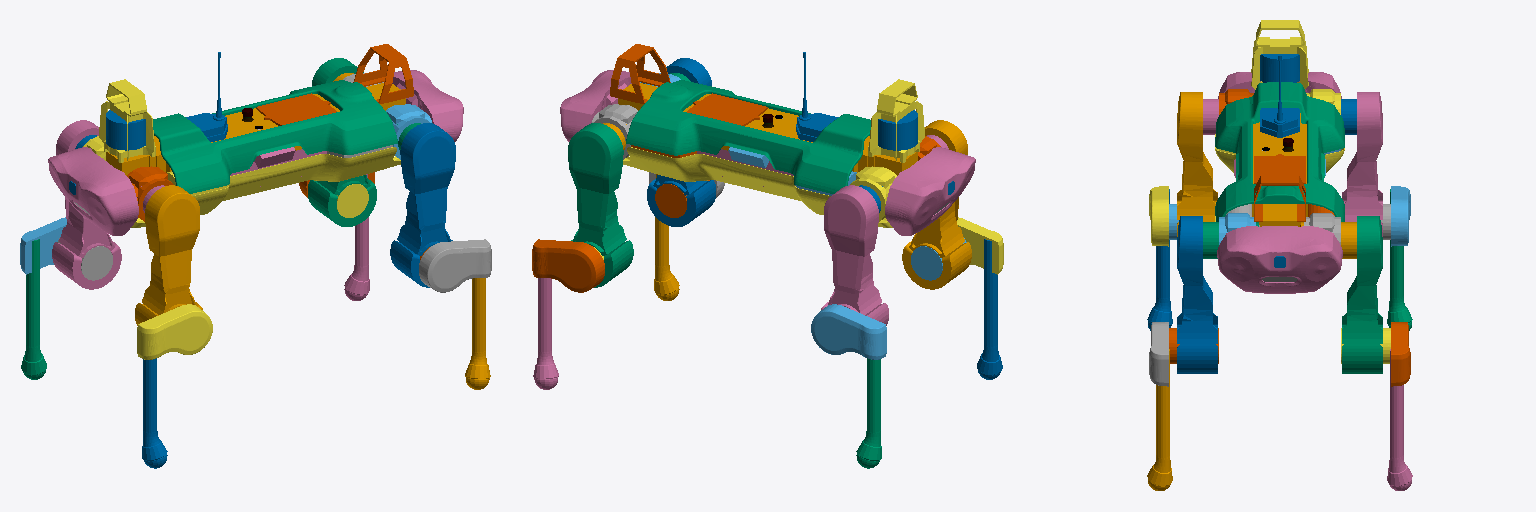
--- What the picture shows (computed from the rendered views, not written in the file) ---
The picture shows the robot from 3 angles, left to right: view 1: azimuth 30°, elevation 25°; view 2: azimuth 150°, elevation 25°; view 3: azimuth 270°, elevation 25°; orthographic projection.
Robot: anymal — 78 links, 77 joints (12 revolute, 65 fixed); root link base; default pose: all joints at 0.
Visible links, largest first — view 1: top_shell, RF_thigh_fixed, RH_thigh_fixed, face_rear, bottom_shell, LH_thigh_fixed, RH_shank_fixed, RF_shank_fixed, LF_thigh_fixed, velodyne_cage, base, face_front (+13 smaller); view 2: top_shell, LF_thigh_fixed, LH_thigh_fixed, face_rear, bottom_shell, RH_thigh_fixed, LH_shank_fixed, LF_shank_fixed, RF_thigh_fixed, velodyne_cage, base, face_front (+13 smaller); view 3: top_shell, face_front, LF_thigh_fixed, RF_thigh_fixed, RH_thigh_fixed, LH_thigh_fixed, base, velodyne_cage, LF_FOOT, RF_FOOT, LH_FOOT, RH_FOOT (+14 smaller).
Boxes of the visible links, left/top/right/bottom form: top_shell: left=153, top=80, right=397, bottom=193; RF_thigh_fixed: left=390, top=123, right=455, bottom=287; RH_thigh_fixed: left=135, top=185, right=202, bottom=325; face_rear: left=48, top=147, right=138, bottom=235; bottom_shell: left=131, top=147, right=400, bottom=227; LH_thigh_fixed: left=52, top=120, right=121, bottom=289; RH_shank_fixed: left=137, top=304, right=212, bottom=359; RF_shank_fixed: left=419, top=239, right=491, bottom=292; LF_thigh_fixed: left=308, top=58, right=376, bottom=226; velodyne_cage: left=99, top=79, right=155, bottom=162; base: left=106, top=83, right=405, bottom=175; face_front: left=392, top=70, right=463, bottom=141; top_shell: left=626, top=80, right=870, bottom=193; LF_thigh_fixed: left=568, top=123, right=633, bottom=287; LH_thigh_fixed: left=821, top=185, right=888, bottom=325; face_rear: left=885, top=147, right=975, bottom=235; bottom_shell: left=623, top=147, right=892, bottom=227; RH_thigh_fixed: left=902, top=120, right=971, bottom=289; LH_shank_fixed: left=811, top=304, right=886, bottom=359; LF_shank_fixed: left=532, top=239, right=604, bottom=292; RF_thigh_fixed: left=647, top=58, right=715, bottom=226; velodyne_cage: left=868, top=79, right=924, bottom=162; base: left=618, top=83, right=917, bottom=175; face_front: left=560, top=70, right=631, bottom=141; top_shell: left=1215, top=82, right=1344, bottom=221; face_front: left=1217, top=226, right=1342, bottom=293; LF_thigh_fixed: left=1342, top=216, right=1382, bottom=373; RF_thigh_fixed: left=1177, top=216, right=1217, bottom=373; RH_thigh_fixed: left=1177, top=92, right=1217, bottom=236; LH_thigh_fixed: left=1342, top=92, right=1382, bottom=236; base: left=1252, top=113, right=1307, bottom=226; velodyne_cage: left=1251, top=20, right=1308, bottom=89; LF_FOOT: left=1387, top=349, right=1412, bottom=490; RF_FOOT: left=1147, top=349, right=1172, bottom=490; LH_FOOT: left=1387, top=189, right=1412, bottom=330; RH_FOOT: left=1147, top=189, right=1172, bottom=330.
Size in the robot's own frame: 1.05 by 0.6518 by 0.9164 metres.
45 mesh visuals loaded from 19 distinct referenced files (19 Collada DAE).

robot.urdf — anymal:
<?xml version="1.0" encoding="utf-8"?>
<!-- =================================================================================== -->
<!-- |    This document was autogenerated by xacro from [local-path]/catkin/src/anymal_c_rsl/anymal_croc_rsl/anymal_croc_rsl/urdf/anymal_croc_rsl.urdf.xacro | -->
<!-- |    EDITING THIS FILE BY HAND IS NOT RECOMMENDED                                 | -->
<!-- =================================================================================== -->
<!-- This file contains the description of the ANYmal robot. -->
<robot name="anymal">
  <!-- [kg * m^2] -->
  <!-- [m] -->
  <!-- measured -->
  <!-- Base link -->
  <link name="base">
    <visual>
      <origin rpy="0 0 0" xyz="0 0 0"/>
      <geometry>
        <mesh filename="../meshes/base_3_1_1_mesh.dae" scale="1.0 1.0     1.0"/>
      </geometry>
    </visual>
    <collision>
      <origin rpy="0 0 0" xyz="0 0 0"/>
      <geometry>
        <box size="0.58 0.14 0.18"/>
      </geometry>
    </collision>
    <collision>
      <origin rpy="0 1.57079632679 0" xyz="0.2175 0.07 0"/>
      <geometry>
        <cylinder length="0.145" radius="0.09"/>
      </geometry>
    </collision>
    <collision>
      <origin rpy="0 1.57079632679 0" xyz="-0.2175 0.07 0"/>
      <geometry>
        <cylinder length="0.145" radius="0.09"/>
      </geometry>
    </collision>
    <collision>
      <origin rpy="0 1.57079632679 0" xyz="0.2175 -0.07 0"/>
      <geometry>
        <cylinder length="0.145" radius="0.09"/>
      </geometry>
    </collision>
    <collision>
      <origin rpy="0 1.57079632679 0" xyz="-0.2175 -0.07 0"/>
      <geometry>
        <cylinder length="0.145" radius="0.09"/>
      </geometry>
    </collision>
    <!-- Shell self filtering -->
    <self_filter>
      <origin rpy="0 0 0" xyz="0 0 0"/>
      <geometry>
        <box size="1.05 0.5 0.25"/>
      </geometry>
    </self_filter>
  </link>
  <!-- Fixed joint to add dummy inertia link -->
  <joint name="base_to_base_inertia" type="fixed">
    <parent link="base"/>
    <child link="base_inertia"/>
    <origin rpy="0 0 0" xyz="0 0 0"/>
  </joint>
  <!-- Dummy inertia link, because KDL cannot have inertia on the base link -->
  <link name="base_inertia">
    <inertial>
      <origin rpy="0 0 0" xyz="-0.02174 0.01649 0.0255"/>
      <mass value="10.3961"/>
      <inertia ixx="0.01883985046" ixy="0.00047876011" ixz="0.0019687174" iyy="0.37477859508" iyz="5.971291e-05" izz="0.37692039276"/>
    </inertial>
  </link>
  <!-- [kg * m^2] -->
  <!-- Fixed joint base topshell -->
  <joint name="base_top_shell" type="fixed">
    <parent link="base"/>
    <child link="top_shell"/>
    <origin rpy="0 0 0" xyz="0 0 0"/>
  </joint>
  <!-- Top shell link -->
  <link name="top_shell">
    <visual>
      <origin rpy="0 0 0" xyz="0 0 0"/>
      <geometry>
        <mesh filename="../meshes/top_shell_3_1_1_mesh.dae" scale="1.0 1.0 1.0"/>
      </geometry>
    </visual>
    <inertial>
      <origin rpy="0 0 0" xyz="-0.00777 -0.00013 0.06523"/>
      <mass value="0.602"/>
      <inertia ixx="0.00664789486" ixy="1.247923e-05" ixz="0.00053990097" iyy="0.02587392411" iyz="3.7614e-07" izz="0.03152303792"/>
    </inertial>
  </link>
  <!-- [kg * m^2] -->
  <!-- Fixed joint base topshell -->
  <joint name="base_bottom_shell" type="fixed">
    <parent link="base"/>
    <child link="bottom_shell"/>
    <origin rpy="0 0 0" xyz="0 0 0"/>
  </joint>
  <!-- Bottom shell link -->
  <link name="bottom_shell">
    <visual>
      <origin rpy="0 0 0" xyz="0 0 0"/>
      <geometry>
        <mesh filename="../meshes/bottom_shell_3_1_1_mesh.dae" scale="1.0 1.0 1.0"/>
      </geometry>
    </visual>
    <inertial>
      <origin rpy="0 0 0" xyz="-0.00333 1e-05 -0.07705"/>
      <mass value="1.13247"/>
      <inertia ixx="0.00927353677" ixy="5.41222e-06" ixz="9.039821e-05" iyy="0.06134388239" iyz="2.3042e-07" izz="0.06853531465"/>
    </inertial>
  </link>
  <!-- [kg * m^2] -->
  <!-- Fixed joint base remote -->
  <joint name="base_remote" type="fixed">
    <parent link="base"/>
    <child link="remote"/>
    <origin rpy="0 0 0" xyz="0 0 0"/>
  </joint>
  <!-- Remote link -->
  <link name="remote">
    <visual>
      <origin rpy="0 0 0" xyz="0 0 0"/>
      <geometry>
        <mesh filename="../meshes/remote_3_1_1_mesh.dae" scale="1.0 1.0     1.0"/>
      </geometry>
    </visual>
    <inertial>
      <origin rpy="0 0 0" xyz="-0.16903 0.00119 0.0959"/>
      <mass value="0.32527"/>
      <inertia ixx="0.00052513018" ixy="3.12817e-05" ixz="0.00010986838" iyy="0.00108907067" iyz="7.8689e-07" izz="0.00116224803"/>
    </inertial>
  </link>
  <!-- [kg * m^2] -->
  <!-- Fixed joint base handle -->
  <joint name="base_handle" type="fixed">
    <parent link="base"/>
    <child link="handle"/>
    <origin rpy="0 0 0" xyz="0 0 0"/>
  </joint>
  <!-- Handle link -->
  <link name="handle">
    <visual>
      <origin rpy="0 0 0" xyz="0 0 0"/>
      <geometry>
        <mesh filename="../meshes/handle_3_1_1_mesh.dae" scale="1.0 1.0     1.0"/>
      </geometry>
    </visual>
    <inertial>
      <origin rpy="0 0 0" xyz="0.37801 0.0 0.1372"/>
      <mass value="0.30655"/>
      <inertia ixx="0.00148775766" ixy="3.55e-09" ixz="5.921332e-05" iyy="0.00067629686" iyz="5.1e-10" izz="0.00113865028"/>
    </inertial>
  </link>
  <!-- [m] -->
  <!-- measured -->
  <!-- Fixed joint base face -->
  <joint name="base_face_front" type="fixed">
    <parent link="base"/>
    <child link="face_front"/>
    <origin rpy="0 0 -0.0" xyz="0.4145 0 0"/>
  </joint>
  <!-- Shell link -->
  <link name="face_front">
    <visual>
      <origin rpy="0 0 0" xyz="0 0 0"/>
      <geometry>
        <mesh filename="../meshes/face_3_1_1_mesh.dae" scale="1.0 1.0 1.0"/>
      </geometry>
    </visual>
    <collision>
      <origin rpy="0 0 0" xyz="0.055 0 0"/>
      <geometry>
        <box size="0.11 0.14 0.18"/>
      </geometry>
    </collision>
    <collision>
      <origin rpy="0 1.57079632679 0" xyz="0.055 0.07 0"/>
      <geometry>
        <cylinder length="0.11" radius="0.09"/>
      </geometry>
    </collision>
    <collision>
      <origin rpy="0 1.57079632679 0" xyz="0.055 -0.07 0"/>
      <geometry>
        <cylinder length="0.11" radius="0.09"/>
      </geometry>
    </collision>
    <inertial>
      <origin rpy="0 0 0" xyz="0.0309 0.0 0.00013"/>
      <mass value="0.07792"/>
      <inertia ixx="0.00015384285" ixy="0.0" ixz="-2.5126e-07" iyy="4.672826e-05" iyz="0.0" izz="0.00018905481"/>
    </inertial>
  </link>
  <!-- [kg * m^2] -->
  <!-- [m] -->
  <!-- Camera joint -->
  <!-- Is located between the two back screw holes at ground level. -->
  <joint name="face_front_to_realsense_d435_front_camera" type="fixed">
    <parent link="face_front"/>
    <child link="realsense_d435_front_camera"/>
    <origin rpy="0.0180287275743 0.485250401273 0" xyz="0.04715 0.0 -0.0292"/>
  </joint>
  <!-- Camera link -->
  <link name="realsense_d435_front_camera">
    <visual>
      <origin rpy="0 0 0" xyz="0.0 0.0 0.0"/>
      <geometry>
        <mesh filename="../meshes/realsense_d435_3_1_1_mesh.dae" scale="1.0 1.0 1.0"/>
      </geometry>
    </visual>
    <inertial>
      <origin rpy="0 0 0" xyz="0.01618 3e-05 0.04715"/>
      <mass value="0.10006"/>
      <inertia ixx="9.072675e-05" ixy="2.73737e-06" ixz="1.969e-08" iyy="1.318628e-05" iyz="9.53e-08" izz="9.0056e-05"/>
    </inertial>
  </link>
  <!-- Camera parent joint -->
  <!-- Frame lies on the left ir camera according to any_realsense2_camera urdf. -->
  <joint name="realsense_d435_front_camera_to_camera_parent" type="fixed">
    <parent link="realsense_d435_front_camera"/>
    <child link="realsense_d435_front_camera_parent"/>
    <origin rpy="0.0 0.0 0.0" xyz="0.0255 0.0175 0.0"/>
  </joint>
  <!-- Camera parent link -->
  <link name="realsense_d435_front_camera_parent"/>
  <!-- Depth optical frame joint -->
  <joint name="realsense_d435_front_camera_parent_to_depth_optical_frame" type="fixed">
    <parent link="realsense_d435_front_camera_parent"/>
    <child link="realsense_d435_front_depth_optical_frame"/>
    <origin rpy="-1.57079632679 0.0 -1.57079632679" xyz="0.0 0.0 0.0"/>
  </joint>
  <!-- Depth optical frame link -->
  <link name="realsense_d435_front_depth_optical_frame"/>
  <!-- Camera color frame joint -->
  <joint name="realsense_d435_front_camera_parent_to_color_frame" type="fixed">
    <parent link="realsense_d435_front_camera_parent"/>
    <child link="realsense_d435_front_color_frame"/>
    <origin rpy="0 0 0" xyz="0 0.015 0"/>
  </joint>
  <!-- Camera color frame link -->
  <link name="realsense_d435_front_color_frame"/>
  <!-- Camera color optical joint -->
  <joint name="realsense_d435_front_color_frame_to_color_optical_frame" type="fixed">
    <parent link="realsense_d435_front_color_frame"/>
    <child link="realsense_d435_front_color_optical_frame"/>
    <origin rpy="-1.57079632679 0.0 -1.57079632679" xyz="0.0 0.0 0.0"/>
  </joint>
  <!-- Camera color optical link -->
  <link name="realsense_d435_front_color_optical_frame"/>
  <!-- simulation or bagfile_is_played -->
  <!-- Gazebo plugin -->
  <gazebo reference="realsense_d435_front_camera_parent">
    <sensor name="realsense_d435_front_camera" type="depth">
      <always_on>1</always_on>
      <visualize>true</visualize>
      <update_rate>6</update_rate>
      <camera>
        <horizontal_fov>1.5917</horizontal_fov>
        <!-- 91.2 degrees -->
        <image>
          <width>424</width>
          <height>240</height>
          <format>R8G8B8</format>
        </image>
        <depth_camera>

            </depth_camera>
        <clip>
          <near>0.1</near>
          <far>10.0</far>
        </clip>
      </camera>
      <plugin filename="libgazebo_ros_openni_kinect.so" name="camera_controller">
        <alwaysOn>true</alwaysOn>
        <updateRate>0.0</updateRate>
        <cameraName>realsense_d435_front</cameraName>
        <frameName>realsense_d435_front_depth_optical_frame</frameName>
        <imageTopicName>color/image_raw</imageTopicName>
        <depthImageTopicName>aligned_depth_to_color/image_raw</depthImageTopicName>
        <pointCloudTopicName>depth/color/points</pointCloudTopicName>
        <cameraInfoTopicName>color/camera_info</cameraInfoTopicName>
        <depthImageCameraInfoTopicName>aligned_depth_to_color/camera_info</depthImageCameraInfoTopicName>
        <pointCloudCutoff>0.0</pointCloudCutoff>
        <hackBaseline>0.07</hackBaseline>
        <distortionK1>0.0</distortionK1>
        <distortionK2>0.0</distortionK2>
        <distortionK3>0.0</distortionK3>
        <distortionT1>0.0</distortionT1>
        <distortionT2>0.0</distortionT2>
        <CxPrime>0.0</CxPrime>
        <Cx>0.0</Cx>
        <Cy>0.0</Cy>
        <focalLength>0.0</focalLength>
      </plugin>
    </sensor>
  </gazebo>
  <!-- simulation -->
  <!-- [kg * m^2] -->
  <!-- [m] -->
  <!-- Camera joint -->
  <!-- Is located in the center of the mounting points. -->
  <joint name="face_front_to_blackfly_front_camera" type="fixed">
    <parent link="face_front"/>
    <child link="blackfly_front_camera"/>
    <origin rpy="0 0 0" xyz="0.09850 0.0 0.01497"/>
  </joint>
  <!-- Camera link -->
  <link name="blackfly_front_camera">
    <visual>
      <origin rpy="0 0 0" xyz="0.0 0.0 0.0"/>
      <geometry>
        <mesh filename="../meshes/blackfly_3_1_1_mesh.dae" scale="1.0 1.0 1.0"/>
      </geometry>
    </visual>
    <inertial>
      <origin rpy="0 0 0" xyz="-0.02575 5e-05 -0.00603"/>
      <mass value="0.1716"/>
      <inertia ixx="4.459725e-05" ixy="-1.5215e-07" ixz="7.82278e-06" iyy="6.206251e-05" iyz="1.3234e-07" izz="5.183372e-05"/>
    </inertial>
  </link>
  <!-- Camera parent joint -->
  <joint name="blackfly_front_camera_to_camera_parent" type="fixed">
    <parent link="blackfly_front_camera"/>
    <child link="blackfly_front_camera_parent"/>
    <origin rpy="-1.57079632679 0.0 -1.57079632679" xyz="0.0 0.0 0.0"/>
  </joint>
  <!-- Camera parent link -->
  <link name="blackfly_front_camera_parent"/>
  <!-- Gazebo plugin -->
  <gazebo reference="blackfly_front_camera">
    <sensor name="blackfly_front_camera" type="camera">
      <always_on>1</always_on>
      <visualize>true</visualize>
      <update_rate>30.0</update_rate>
      <camera name="blackfly_front_camera">
        <horizontal_fov>1.91986</horizontal_fov>
        <image>
          <width>1280</width>
          <height>1024</height>
          <format>R8G8B8</format>
        </image>
        <clip>
          <near>0.02</near>
          <far>300</far>
        </clip>
      </camera>
      <plugin filename="libgazebo_ros_camera.so" name="camera_controller">
        <alwaysOn>true</alwaysOn>
        <updateRate>0.0</updateRate>
        <cameraName>blackfly_front</cameraName>
        <imageTopicName>image_raw</imageTopicName>
        <cameraInfoTopicName>camera_info</cameraInfoTopicName>
        <frameName>blackfly_front_camera_parent</frameName>
        <hackBaseline>0.0</hackBaseline>
        <distortionK1>0.0</distortionK1>
        <distortionK2>0.0</distortionK2>
        <distortionK3>0.0</distortionK3>
        <distortionT1>0.0</distortionT1>
        <distortionT2>0.0</distortionT2>
      </plugin>
    </sensor>
  </gazebo>
  <!-- simulation -->
  <!-- [m] -->
  <!-- measured -->
  <!-- Fixed joint base face -->
  <joint name="base_face_rear" type="fixed">
    <parent link="base"/>
    <child link="face_rear"/>
    <origin rpy="0 0 3.14159265359" xyz="-0.4145 0 0"/>
  </joint>
  <!-- Shell link -->
  <link name="face_rear">
    <visual>
      <origin rpy="0 0 0" xyz="0 0 0"/>
      <geometry>
        <mesh filename="../meshes/face_3_1_1_mesh.dae" scale="1.0 1.0 1.0"/>
      </geometry>
    </visual>
    <collision>
      <origin rpy="0 0 0" xyz="0.055 0 0"/>
      <geometry>
        <box size="0.11 0.14 0.18"/>
      </geometry>
    </collision>
    <collision>
      <origin rpy="0 1.57079632679 0" xyz="0.055 0.07 0"/>
      <geometry>
        <cylinder length="0.11" radius="0.09"/>
      </geometry>
    </collision>
    <collision>
      <origin rpy="0 1.57079632679 0" xyz="0.055 -0.07 0"/>
      <geometry>
        <cylinder length="0.11" radius="0.09"/>
      </geometry>
    </collision>
    <inertial>
      <origin rpy="0 0 0" xyz="0.0309 0.0 0.00013"/>
      <mass value="0.07792"/>
      <inertia ixx="0.00015384285" ixy="0.0" ixz="-2.5126e-07" iyy="4.672826e-05" iyz="0.0" izz="0.00018905481"/>
    </inertial>
  </link>
  <!-- [kg * m^2] -->
  <!-- [m] -->
  <!-- Camera joint -->
  <!-- Is located between the two back screw holes at ground level. -->
  <joint name="face_rear_to_realsense_d435_rear_camera" type="fixed">
    <parent link="face_rear"/>
    <child link="realsense_d435_rear_camera"/>
    <origin rpy="0.0188521739154 0.529785967797 0" xyz="0.04715 0.0 -0.0292"/>
  </joint>
  <!-- Camera link -->
  <link name="realsense_d435_rear_camera">
    <visual>
      <origin rpy="0 0 0" xyz="0.0 0.0 0.0"/>
      <geometry>
        <mesh filename="../meshes/realsense_d435_3_1_1_mesh.dae" scale="1.0 1.0 1.0"/>
      </geometry>
    </visual>
    <inertial>
      <origin rpy="0 0 0" xyz="0.01618 3e-05 0.04715"/>
      <mass value="0.10006"/>
      <inertia ixx="9.072675e-05" ixy="2.73737e-06" ixz="1.969e-08" iyy="1.318628e-05" iyz="9.53e-08" izz="9.0056e-05"/>
    </inertial>
  </link>
  <!-- Camera parent joint -->
  <!-- Frame lies on the left ir camera according to any_realsense2_camera urdf. -->
  <joint name="realsense_d435_rear_camera_to_camera_parent" type="fixed">
    <parent link="realsense_d435_rear_camera"/>
    <child link="realsense_d435_rear_camera_parent"/>
    <origin rpy="0.0 0.0 0.0" xyz="0.0255 0.0175 0.0"/>
  </joint>
  <!-- Camera parent link -->
  <link name="realsense_d435_rear_camera_parent"/>
  <!-- Depth optical frame joint -->
  <joint name="realsense_d435_rear_camera_parent_to_depth_optical_frame" type="fixed">
    <parent link="realsense_d435_rear_camera_parent"/>
    <child link="realsense_d435_rear_depth_optical_frame"/>
    <origin rpy="-1.57079632679 0.0 -1.57079632679" xyz="0.0 0.0 0.0"/>
  </joint>
  <!-- Depth optical frame link -->
  <link name="realsense_d435_rear_depth_optical_frame"/>
  <!-- Camera color frame joint -->
  <joint name="realsense_d435_rear_camera_parent_to_color_frame" type="fixed">
    <parent link="realsense_d435_rear_camera_parent"/>
    <child link="realsense_d435_rear_color_frame"/>
    <origin rpy="0 0 0" xyz="0 0.015 0"/>
  </joint>
  <!-- Camera color frame link -->
  <link name="realsense_d435_rear_color_frame"/>
  <!-- Camera color optical joint -->
  <joint name="realsense_d435_rear_color_frame_to_color_optical_frame" type="fixed">
    <parent link="realsense_d435_rear_color_frame"/>
    <child link="realsense_d435_rear_color_optical_frame"/>
    <origin rpy="-1.57079632679 0.0 -1.57079632679" xyz="0.0 0.0 0.0"/>
  </joint>
  <!-- Camera color optical link -->
  <link name="realsense_d435_rear_color_optical_frame"/>
  <!-- simulation or bagfile_is_played -->
  <!-- Gazebo plugin -->
  <gazebo reference="realsense_d435_rear_camera_parent">
    <sensor name="realsense_d435_rear_camera" type="depth">
      <always_on>1</always_on>
      <visualize>true</visualize>
      <update_rate>6</update_rate>
      <camera>
        <horizontal_fov>1.5917</horizontal_fov>
        <!-- 91.2 degrees -->
        <image>
          <width>424</width>
          <height>240</height>
          <format>R8G8B8</format>
        </image>
        <depth_camera>

            </depth_camera>
        <clip>
          <near>0.1</near>
          <far>10.0</far>
        </clip>
      </camera>
      <plugin filename="libgazebo_ros_openni_kinect.so" name="camera_controller">
        <alwaysOn>true</alwaysOn>
        <updateRate>0.0</updateRate>
        <cameraName>realsense_d435_rear</cameraName>
        <frameName>realsense_d435_rear_depth_optical_frame</frameName>
        <imageTopicName>color/image_raw</imageTopicName>
        <depthImageTopicName>aligned_depth_to_color/image_raw</depthImageTopicName>
        <pointCloudTopicName>depth/color/points</pointCloudTopicName>
        <cameraInfoTopicName>color/camera_info</cameraInfoTopicName>
        <depthImageCameraInfoTopicName>aligned_depth_to_color/camera_info</depthImageCameraInfoTopicName>
        <pointCloudCutoff>0.0</pointCloudCutoff>
        <hackBaseline>0.07</hackBaseline>
        <distortionK1>0.0</distortionK1>
        <distortionK2>0.0</distortionK2>
        <distortionK3>0.0</distortionK3>
        <distortionT1>0.0</distortionT1>
        <distortionT2>0.0</distortionT2>
        <CxPrime>0.0</CxPrime>
        <Cx>0.0</Cx>
        <Cy>0.0</Cy>
        <focalLength>0.0</focalLength>
      </plugin>
    </sensor>
  </gazebo>
  <!-- simulation -->
  <!-- [kg * m^2] -->
  <!-- [m] -->
  <!-- Camera joint -->
  <!-- Is located in the center of the mounting points. -->
  <joint name="face_rear_to_blackfly_rear_camera" type="fixed">
    <parent link="face_rear"/>
    <child link="blackfly_rear_camera"/>
    <origin rpy="0 0 0" xyz="0.09850 0.0 0.01497"/>
  </joint>
  <!-- Camera link -->
  <link name="blackfly_rear_camera">
    <visual>
      <origin rpy="0 0 0" xyz="0.0 0.0 0.0"/>
      <geometry>
        <mesh filename="../meshes/blackfly_3_1_1_mesh.dae" scale="1.0 1.0 1.0"/>
      </geometry>
    </visual>
    <inertial>
      <origin rpy="0 0 0" xyz="-0.02575 5e-05 -0.00603"/>
      <mass value="0.1716"/>
      <inertia ixx="4.459725e-05" ixy="-1.5215e-07" ixz="7.82278e-06" iyy="6.206251e-05" iyz="1.3234e-07" izz="5.183372e-05"/>
    </inertial>
  </link>
  <!-- Camera parent joint -->
  <joint name="blackfly_rear_camera_to_camera_parent" type="fixed">
    <parent link="blackfly_rear_camera"/>
    <child link="blackfly_rear_camera_parent"/>
    <origin rpy="-1.57079632679 0.0 -1.57079632679" xyz="0.0 0.0 0.0"/>
  </joint>
  <!-- Camera parent link -->
  <link name="blackfly_rear_camera_parent"/>
  <!-- Gazebo plugin -->
  <gazebo reference="blackfly_rear_camera">
    <sensor name="blackfly_rear_camera" type="camera">
      <always_on>1</always_on>
      <visualize>true</visualize>
      <update_rate>30.0</update_rate>
      <camera name="blackfly_rear_camera">
        <horizontal_fov>1.91986</horizontal_fov>
        <image>
          <width>1280</width>
          <height>1024</height>
          <format>R8G8B8</format>
        </image>
        <clip>
          <near>0.02</near>
          <far>300</far>
        </clip>
      </camera>
      <plugin filename="libgazebo_ros_camera.so" name="camera_controller">
        <alwaysOn>true</alwaysOn>
        <updateRate>0.0</updateRate>
        <cameraName>blackfly_rear</cameraName>
        <imageTopicName>image_raw</imageTopicName>
        <cameraInfoTopicName>camera_info</cameraInfoTopicName>
        <frameName>blackfly_rear_camera_parent</frameName>
        <hackBaseline>0.0</hackBaseline>
        <distortionK1>0.0</distortionK1>
        <distortionK2>0.0</distortionK2>
        <distortionK3>0.0</distortionK3>
        <distortionT1>0.0</distortionT1>
        <distortionT2>0.0</distortionT2>
      </plugin>
    </sensor>
  </gazebo>
  <!-- simulation -->
  <!-- [kg * m^2] -->
  <!-- Fixed joint base battery -->
  <joint name="base_battery" type="fixed">
    <parent link="base"/>
    <child link="battery"/>
    <origin rpy="0 0 0" xyz="0 0 0"/>
  </joint>
  <!-- Shell link -->
  <link name="battery">
    <visual>
      <origin rpy="0 0 0" xyz="0 0 0"/>
      <geometry>
        <mesh filename="../meshes/battery_3_0_4_mesh.dae" scale="1.0 1.0     1.0"/>
      </geometry>
    </visual>
    <inertial>
      <origin rpy="0 0 0" xyz="-0.00067 -0.00023 -0.03362"/>
      <mass value="5.53425"/>
      <inertia ixx="0.00749474794" ixy="0.00016686282" ixz="7.82763e-05" iyy="0.0722338913" iyz="1.42902e-06" izz="0.07482717535"/>
    </inertial>
  </link>
  <!-- Fixed joint to add docking socket -->
  <joint name="base_to_docking_socket" type="fixed">
    <parent link="base"/>
    <child link="docking_socket"/>
    <origin rpy="0 0 0" xyz="0.343 0.0 -0.08"/>
  </joint>
  <!-- Docking socket link -->
  <link name="docking_socket"/>
  <!-- [] -->
  <link name="imu_link">
    <visual>
      <origin rpy="0 0 0" xyz="0 0 0.005"/>
      <geometry>
        <box size="0.024 0.024 0.01"/>
      </geometry>
      <material name="orange"/>
    </visual>
    <collision>
      <origin rpy="0 0 0" xyz="0 0 0.005"/>
      <geometry>
        <box size="0.024 0.024 0.01"/>
      </geometry>
    </collision>
    <inertial>
      <mass value="0.01"/>
      <origin xyz="0 0 0"/>
      <inertia ixx="5.63333333333e-07" ixy="0.0" ixz="0.0" iyy="9.6e-07" iyz="0.0" izz="5.63333333333e-07"/>
    </inertial>
  </link>
  <joint name="imu_joint" type="fixed">
    <parent link="base"/>
    <child link="imu_link"/>
    <origin rpy="0.0 0.0 0.0" xyz="0.2488 0.00835 0.04628"/>
  </joint>
  <!-- [kg * m^2] -->
  <!-- [m] -->
  <!-- Camera joint -->
  <!-- Is located between the two back screw holes at ground level. -->
  <joint name="base_to_realsense_d435_left_camera" type="fixed">
    <parent link="base"/>
    <child link="realsense_d435_left_camera"/>
    <origin rpy="-0.0152290274679 0.510627488597 1.57079632679" xyz="0.0 0.07646 0.02905"/>
  </joint>
  <!-- Camera link -->
  <link name="realsense_d435_left_camera">
    <visual>
      <origin rpy="0 0 0" xyz="0.0 0.0 0.0"/>
      <geometry>
        <mesh filename="../meshes/realsense_d435_3_1_1_mesh.dae" scale="1.0 1.0 1.0"/>
      </geometry>
    </visual>
    <inertial>
      <origin rpy="0 0 0" xyz="0.01618 3e-05 0.04715"/>
      <mass value="0.10006"/>
      <inertia ixx="9.072675e-05" ixy="2.73737e-06" ixz="1.969e-08" iyy="1.318628e-05" iyz="9.53e-08" izz="9.0056e-05"/>
    </inertial>
  </link>
  <!-- Camera parent joint -->
  <!-- Frame lies on the left ir camera according to any_realsense2_camera urdf. -->
  <joint name="realsense_d435_left_camera_to_camera_parent" type="fixed">
    <parent link="realsense_d435_left_camera"/>
    <child link="realsense_d435_left_camera_parent"/>
    <origin rpy="0.0 0.0 0.0" xyz="0.0255 0.0175 0.0"/>
  </joint>
  <!-- Camera parent link -->
  <link name="realsense_d435_left_camera_parent"/>
  <!-- Depth optical frame joint -->
  <joint name="realsense_d435_left_camera_parent_to_depth_optical_frame" type="fixed">
    <parent link="realsense_d435_left_camera_parent"/>
    <child link="realsense_d435_left_depth_optical_frame"/>
    <origin rpy="-1.57079632679 0.0 -1.57079632679" xyz="0.0 0.0 0.0"/>
  </joint>
  <!-- Depth optical frame link -->
  <link name="realsense_d435_left_depth_optical_frame"/>
  <!-- Camera color frame joint -->
  <joint name="realsense_d435_left_camera_parent_to_color_frame" type="fixed">
    <parent link="realsense_d435_left_camera_parent"/>
    <child link="realsense_d435_left_color_frame"/>
    <origin rpy="0 0 0" xyz="0 0.015 0"/>
  </joint>
  <!-- Camera color frame link -->
  <link name="realsense_d435_left_color_frame"/>
  <!-- Camera color optical joint -->
  <joint name="realsense_d435_left_color_frame_to_color_optical_frame" type="fixed">
    <parent link="realsense_d435_left_color_frame"/>
    <child link="realsense_d435_left_color_optical_frame"/>
    <origin rpy="-1.57079632679 0.0 -1.57079632679" xyz="0.0 0.0 0.0"/>
  </joint>
  <!-- Camera color optical link -->
  <link name="realsense_d435_left_color_optical_frame"/>
  <!-- simulation or bagfile_is_played -->
  <!-- Gazebo plugin -->
  <gazebo reference="realsense_d435_left_camera_parent">
    <sensor name="realsense_d435_left_camera" type="depth">
      <always_on>1</always_on>
      <visualize>true</visualize>
      <update_rate>6</update_rate>
      <camera>
        <horizontal_fov>1.5917</horizontal_fov>
        <!-- 91.2 degrees -->
        <image>
          <width>424</width>
          <height>240</height>
          <format>R8G8B8</format>
        </image>
        <depth_camera>

            </depth_camera>
        <clip>
          <near>0.1</near>
          <far>10.0</far>
        </clip>
      </camera>
      <plugin filename="libgazebo_ros_openni_kinect.so" name="camera_controller">
        <alwaysOn>true</alwaysOn>
        <updateRate>0.0</updateRate>
        <cameraName>realsense_d435_left</cameraName>
        <frameName>realsense_d435_left_depth_optical_frame</frameName>
        <imageTopicName>color/image_raw</imageTopicName>
        <depthImageTopicName>aligned_depth_to_color/image_raw</depthImageTopicName>
        <pointCloudTopicName>depth/color/points</pointCloudTopicName>
        <cameraInfoTopicName>color/camera_info</cameraInfoTopicName>
        <depthImageCameraInfoTopicName>aligned_depth_to_color/camera_info</depthImageCameraInfoTopicName>
        <pointCloudCutoff>0.0</pointCloudCutoff>
        <hackBaseline>0.07</hackBaseline>
        <distortionK1>0.0</distortionK1>
        <distortionK2>0.0</distortionK2>
        <distortionK3>0.0</distortionK3>
        <distortionT1>0.0</distortionT1>
        <distortionT2>0.0</distortionT2>
        <CxPrime>0.0</CxPrime>
        <Cx>0.0</Cx>
        <Cy>0.0</Cy>
        <focalLength>0.0</focalLength>
      </plugin>
    </sensor>
  </gazebo>
  <!-- simulation -->
  <!-- [kg * m^2] -->
  <!-- [m] -->
  <!-- Camera joint -->
  <!-- Is located between the two back screw holes at ground level. -->
  <joint name="base_to_realsense_d435_right_camera" type="fixed">
    <parent link="base"/>
    <child link="realsense_d435_right_camera"/>
    <origin rpy="0.0323779520196 0.531011188932 -1.57079632679" xyz="0.0 -0.07646 0.02905"/>
  </joint>
  <!-- Camera link -->
  <link name="realsense_d435_right_camera">
    <visual>
      <origin rpy="0 0 0" xyz="0.0 0.0 0.0"/>
      <geometry>
        <mesh filename="../meshes/realsense_d435_3_1_1_mesh.dae" scale="1.0 1.0 1.0"/>
      </geometry>
    </visual>
    <inertial>
      <origin rpy="0 0 0" xyz="0.01618 3e-05 0.04715"/>
      <mass value="0.10006"/>
      <inertia ixx="9.072675e-05" ixy="2.73737e-06" ixz="1.969e-08" iyy="1.318628e-05" iyz="9.53e-08" izz="9.0056e-05"/>
    </inertial>
  </link>
  <!-- Camera parent joint -->
  <!-- Frame lies on the left ir camera according to any_realsense2_camera urdf. -->
  <joint name="realsense_d435_right_camera_to_camera_parent" type="fixed">
    <parent link="realsense_d435_right_camera"/>
    <child link="realsense_d435_right_camera_parent"/>
    <origin rpy="0.0 0.0 0.0" xyz="0.0255 0.0175 0.0"/>
  </joint>
  <!-- Camera parent link -->
  <link name="realsense_d435_right_camera_parent"/>
  <!-- Depth optical frame joint -->
  <joint name="realsense_d435_right_camera_parent_to_depth_optical_frame" type="fixed">
    <parent link="realsense_d435_right_camera_parent"/>
    <child link="realsense_d435_right_depth_optical_frame"/>
    <origin rpy="-1.57079632679 0.0 -1.57079632679" xyz="0.0 0.0 0.0"/>
  </joint>
  <!-- Depth optical frame link -->
  <link name="realsense_d435_right_depth_optical_frame"/>
  <!-- Camera color frame joint -->
  <joint name="realsense_d435_right_camera_parent_to_color_frame" type="fixed">
    <parent link="realsense_d435_right_camera_parent"/>
    <child link="realsense_d435_right_color_frame"/>
    <origin rpy="0 0 0" xyz="0 0.015 0"/>
  </joint>
  <!-- Camera color frame link -->
  <link name="realsense_d435_right_color_frame"/>
  <!-- Camera color optical joint -->
  <joint name="realsense_d435_right_color_frame_to_color_optical_frame" type="fixed">
    <parent link="realsense_d435_right_color_frame"/>
    <child link="realsense_d435_right_color_optical_frame"/>
    <origin rpy="-1.57079632679 0.0 -1.57079632679" xyz="0.0 0.0 0.0"/>
  </joint>
  <!-- Camera color optical link -->
  <link name="realsense_d435_right_color_optical_frame"/>
  <!-- simulation or bagfile_is_played -->
  <!-- Gazebo plugin -->
  <gazebo reference="realsense_d435_right_camera_parent">
    <sensor name="realsense_d435_right_camera" type="depth">
      <always_on>1</always_on>
      <visualize>true</visualize>
      <update_rate>6</update_rate>
      <camera>
        <horizontal_fov>1.5917</horizontal_fov>
        <!-- 91.2 degrees -->
        <image>
          <width>424</width>
          <height>240</height>
          <format>R8G8B8</format>
        </image>
        <depth_camera>

            </depth_camera>
        <clip>
          <near>0.1</near>
          <far>10.0</far>
        </clip>
      </camera>
      <plugin filename="libgazebo_ros_openni_kinect.so" name="camera_controller">
        <alwaysOn>true</alwaysOn>
        <updateRate>0.0</updateRate>
        <cameraName>realsense_d435_right</cameraName>
        <frameName>realsense_d435_right_depth_optical_frame</frameName>
        <imageTopicName>color/image_raw</imageTopicName>
        <depthImageTopicName>aligned_depth_to_color/image_raw</depthImageTopicName>
        <pointCloudTopicName>depth/color/points</pointCloudTopicName>
        <cameraInfoTopicName>color/camera_info</cameraInfoTopicName>
        <depthImageCameraInfoTopicName>aligned_depth_to_color/camera_info</depthImageCameraInfoTopicName>
        <pointCloudCutoff>0.0</pointCloudCutoff>
        <hackBaseline>0.07</hackBaseline>
        <distortionK1>0.0</distortionK1>
        <distortionK2>0.0</distortionK2>
        <distortionK3>0.0</distortionK3>
        <distortionT1>0.0</distortionT1>
        <distortionT2>0.0</distortionT2>
        <CxPrime>0.0</CxPrime>
        <Cx>0.0</Cx>
        <Cy>0.0</Cy>
        <focalLength>0.0</focalLength>
      </plugin>
    </sensor>
  </gazebo>
  <!-- simulation -->
  <!-- [kg * m^2] -->
  <!-- [m] -->
  <!-- parent to cage joint, located between mounting plate on trunk and the cage -->
  <joint name="base_to_velodyne_cage" type="fixed">
    <parent link="base"/>
    <child link="velodyne_cage"/>
    <origin rpy="0 0 0" xyz="-0.364 0.0 0.0735"/>
  </joint>
  <!-- Velodyne cage link -->
  <link name="velodyne_cage">
    <visual>
      <origin rpy="0.0 0.0 0.0" xyz="0.0 0.0 0.0"/>
      <geometry>
        <mesh filename="../meshes/cage_3_1_1_mesh.dae" scale="1.0 1.0 1.0"/>
      </geometry>
    </visual>
    <collision>
      <origin rpy="0 0 0" xyz="0 0 0.06"/>
      <geometry>
        <cylinder length="0.12" radius="0.07"/>
      </geometry>
    </collision>
    <inertial>
      <origin rpy="0.0 0.0 0.0" xyz="0.00835 0.00422 0.09164"/>
      <mass value="0.59537"/>
      <inertia ixx="0.00355433776" ixy="-0.00017311043" ixz="0.00034272548" iyy="0.00300234186" iyz="0.00017427295" izz="0.00174109156"/>
    </inertial>
  </link>
  <!-- [kg * m^2] -->
  <!-- parent to sensor joint -->
  <joint name="velodyne_cage_to_velodyne" type="fixed">
    <parent link="velodyne_cage"/>
    <child link="velodyne"/>
    <origin rpy="0.0 0.0 -1.57079632679" xyz="0.0 0.0 0.0687"/>
  </joint>
  <!-- Velodyne sensor link -->
  <link name="velodyne">
    <inertial>
      <origin rpy="0.0 0.0 0.0" xyz="0.0 8e-05 -0.0025"/>
      <mass value="0.59"/>
      <inertia ixx="0.00063992282" ixy="1.1e-10" ixz="5.061e-08" iyy="0.00063682474" iyz="1.38867e-06" izz="0.00075943194"/>
    </inertial>
    <visual>
      <origin xyz="0 0 0"/>
      <geometry>
        <mesh filename="../meshes/velodyne_3_1_1_mesh.dae"/>
      </geometry>
    </visual>
  </link>
  <!-- velodyne_gazebo_plugins -->
  <gazebo reference="velodyne">
    <sensor name="velodyne-VLP16" type="ray">
      <pose>0 0 0 0 0 0</pose>
      <visualize>false</visualize>
      <update_rate>10</update_rate>
      <ray>
        <scan>
          <horizontal>
            <samples>440</samples>
            <resolution>1</resolution>
            <min_angle>-3.14159265359</min_angle>
            <max_angle>3.14159265359</max_angle>
          </horizontal>
          <vertical>
            <samples>16</samples>
            <resolution>1</resolution>
            <min_angle>-0.261799387799</min_angle>
            <max_angle> 0.261799387799</max_angle>
          </vertical>
        </scan>
        <range>
          <min>0.3</min>
          <max>131.0</max>
          <resolution>0.001</resolution>
        </range>
        <noise>
          <type>gaussian</type>
          <mean>0.0</mean>
          <stddev>0.0</stddev>
        </noise>
      </ray>
      <plugin filename="libgazebo_ros_velodyne_laser.so" name="gazebo_ros_laser_controller">
        <topicName>/velodyne/point_cloud</topicName>
        <frameName>velodyne</frameName>
        <min_range>0.9</min_range>
        <max_range>130.0</max_range>
        <gaussianNoise>0.008</gaussianNoise>
      </plugin>
    </sensor>
  </gazebo>
  <!-- simulation -->
  <!-- [rad] -->
  <!-- joint base HAA -->
  <joint name="base_LF_HAA" type="fixed">
    <parent link="base"/>
    <child link="LF_HAA"/>
    <origin rpy="2.61799387799 0 0.0" xyz="0.2999 0.104 0.0"/>
  </joint>
  <!-- [m] -->
  <!-- [A] -->
  <!-- Drive link -->
  <link name="LF_HAA">
    <visual>
      <origin rpy="0 0 0" xyz="0 0 0"/>
      <geometry>
        <mesh filename="../meshes/drive_3_0_2_mesh.dae" scale="1.0 1.0     1.0"/>
      </geometry>
    </visual>
    <inertial>
      <origin rpy="0 0 0" xyz="-0.06639 7e-05 0.00046"/>
      <mass value="1.89871"/>
      <inertia ixx="0.00201800646" ixy="6.22418e-06" ixz="1.03846e-06" iyy="0.00354961412" iyz="1.0569e-07" izz="0.00353706896"/>
    </inertial>
  </link>
  <!-- joint Drive output -->
  <joint name="LF_HAA" type="revolute">
    <parent link="LF_HAA"/>
    <child link="LF_HIP"/>
    <origin rpy="0 0 0" xyz="0 0 0"/>
    <axis xyz="1 0 0"/>
    <limit command_effort="80.0" current="32.0" effort="80.0" gear_velocity="7.5" lower="-9.42477796077" upper="9.42477796077" velocity="7.5"/>
    <dynamics damping="0.0" friction="0.0"/>
  </joint>
  <!-- Drive output link -->
  <link name="LF_HIP">
    <inertial>
      <origin rpy="0 0 0" xyz="0 0 0"/>
      <mass value="0.001"/>
      <inertia ixx="0.000001" ixy="0.0" ixz="0.0" iyy="0.000001" iyz="0.0" izz="0.000001"/>
    </inertial>
  </link>
  <!-- [kg * m^2] -->
  <!-- joint HAA hip -->
  <joint name="LF_HIP_LF_hip_fixed" type="fixed">
    <parent link="LF_HIP"/>
    <child link="LF_hip_fixed"/>
    <origin rpy="-2.61799387799 0 0.0" xyz="0 0 0"/>
  </joint>
  <!-- Hip link -->
  <link name="LF_hip_fixed">
    <visual>
      <origin rpy="0 0 0.0" xyz="0 0 0"/>
      <geometry>
        <mesh filename="../meshes/hip_3_1_1_mesh.dae" scale="1.0 1.0     1.0"/>
      </geometry>
    </visual>
    <inertial>
      <origin rpy="0 0 0" xyz="0.04524 -0.0009 -0.00442"/>
      <mass value="0.61232"/>
      <inertia ixx="0.00120630718" ixy="5.33521e-06" ixz="1.483089e-05" iyy="0.00378577813" iyz="1.483089e-05" izz="0.00370047477"/>
    </inertial>
  </link>
  <!-- [rad] -->
  <!-- joint hip HFE -->
  <joint name="LF_hip_fixed_LF_HFE" type="fixed">
    <parent link="LF_hip_fixed"/>
    <child link="LF_HFE"/>
    <origin rpy="0 0 1.57079632679" xyz="0.0599 0.08381 0.0"/>
  </joint>
  <!-- [m] -->
  <!-- [A] -->
  <!-- Drive link -->
  <link name="LF_HFE">
    <visual>
      <origin rpy="0 0 0" xyz="0 0 0"/>
      <geometry>
        <mesh filename="../meshes/drive_3_0_2_mesh.dae" scale="1.0 1.0     1.0"/>
      </geometry>
    </visual>
    <collision>
      <origin rpy="0 1.57079632679 0" xyz="-0.07 0 0"/>
      <geometry>
        <cylinder length="0.14" radius="0.05"/>
      </geometry>
    </collision>
    <inertial>
      <origin rpy="0 0 0" xyz="-0.06639 7e-05 0.00046"/>
      <mass value="1.89871"/>
      <inertia ixx="0.00201800646" ixy="6.22418e-06" ixz="1.03846e-06" iyy="0.00354961412" iyz="1.0569e-07" izz="0.00353706896"/>
    </inertial>
  </link>
  <!-- joint Drive output -->
  <joint name="LF_HFE" type="revolute">
    <parent link="LF_HFE"/>
    <child link="LF_THIGH"/>
    <origin rpy="0 0 0" xyz="0 0 0"/>
    <axis xyz="1 0 0"/>
    <limit command_effort="80.0" current="32.0" effort="80.0" gear_velocity="7.5" lower="-9.42477796077" upper="9.42477796077" velocity="7.5"/>
    <dynamics damping="0.0" friction="0.0"/>
  </joint>
  <!-- Drive output link -->
  <link name="LF_THIGH">
    <inertial>
      <origin rpy="0 0 0" xyz="0 0 0"/>
      <mass value="0.001"/>
      <inertia ixx="0.000001" ixy="0.0" ixz="0.0" iyy="0.000001" iyz="0.0" izz="0.000001"/>
    </inertial>
  </link>
  <!-- [m] -->
  <!-- measured -->
  <!-- joint HFE thigh -->
  <joint name="LF_THIGH_LF_thigh_fixed" type="fixed">
    <parent link="LF_THIGH"/>
    <child link="LF_thigh_fixed"/>
    <origin rpy="0 0 -1.57079632679" xyz="0 0 0"/>
  </joint>
  <!-- Thigh link -->
  <link name="LF_thigh_fixed">
    <visual>
      <origin rpy="0 0 0.0" xyz="0 0 0"/>
      <geometry>
        <mesh filename="../meshes/thigh_3_1_1_mesh.dae" scale="1.0 1.0     1.0"/>
      </geometry>
    </visual>
    <!-- Thigh collision -->
    <collision>
      <origin rpy="1.57079632679 0 0" xyz="0 0.04 0"/>
      <geometry>
        <cylinder length="0.08" radius="0.065"/>
      </geometry>
    </collision>
    <collision>
      <origin rpy="0 0 0" xyz="0 0.03 -0.1413135"/>
      <geometry>
        <box size="0.075 0.06 0.282627"/>
      </geometry>
    </collision>
    <inertial>
      <origin rpy="0 0 0" xyz="-0.00935 0.00194 -0.1424"/>
      <mass value="1.37356"/>
      <inertia ixx="0.02568264237" ixy="0.00110418011" ixz="0.00183898863" iyy="0.02513273119" iyz="0.00217895477" izz="0.0049947572"/>
    </inertial>
  </link>
  <!-- [rad] -->
  <!-- joint thigh KFE -->
  <joint name="LF_thigh_fixed_LF_KFE" type="fixed">
    <parent link="LF_thigh_fixed"/>
    <child link="LF_KFE"/>
    <origin rpy="0 0 1.57079632679" xyz="0.0 0.1003 -0.285"/>
  </joint>
  <!-- [m] -->
  <!-- [A] -->
  <!-- Drive link -->
  <link name="LF_KFE">
    <visual>
      <origin rpy="0 0 0" xyz="0 0 0"/>
      <geometry>
        <mesh filename="../meshes/drive_3_0_2_mesh.dae" scale="1.0 1.0     1.0"/>
      </geometry>
    </visual>
    <collision>
      <origin rpy="0 1.57079632679 0" xyz="-0.07 0 0"/>
      <geometry>
        <cylinder length="0.14" radius="0.05"/>
      </geometry>
    </collision>
    <inertial>
      <origin rpy="0 0 0" xyz="-0.06639 7e-05 0.00046"/>
      <mass value="1.89871"/>
      <inertia ixx="0.00201800646" ixy="6.22418e-06" ixz="1.03846e-06" iyy="0.00354961412" iyz="1.0569e-07" izz="0.00353706896"/>
    </inertial>
  </link>
  <!-- joint Drive output -->
  <joint name="LF_KFE" type="revolute">
    <parent link="LF_KFE"/>
    <child link="LF_SHANK"/>
    <origin rpy="0 0 0" xyz="0 0 0"/>
    <axis xyz="1 0 0"/>
    <limit command_effort="80.0" current="32.0" effort="80.0" gear_velocity="7.5" lower="-9.42477796077" upper="9.42477796077" velocity="7.5"/>
    <dynamics damping="0.0" friction="0.0"/>
  </joint>
  <!-- Drive output link -->
  <link name="LF_SHANK">
    <inertial>
      <origin rpy="0 0 0" xyz="0 0 0"/>
      <mass value="0.001"/>
      <inertia ixx="0.000001" ixy="0.0" ixz="0.0" iyy="0.000001" iyz="0.0" izz="0.000001"/>
    </inertial>
  </link>
  <!-- [m] -->
  <!-- measured -->
  <!-- joint KFE shank -->
  <joint name="LF_shank_LF_shank_fixed" type="fixed">
    <parent link="LF_SHANK"/>
    <child link="LF_shank_fixed"/>
    <origin rpy="0 0 -1.57079632679" xyz="0 0 0"/>
  </joint>
  <!-- Shank link -->
  <link name="LF_shank_fixed">
    <visual>
      <origin rpy="0 0 0.0" xyz="0 0 0"/>
      <geometry>
        <mesh filename="../meshes/shank_3_1_1_mesh.dae" scale="1.0 1.0     1.0"/>
      </geometry>
    </visual>
    <!-- Shank collision -->
    <collision>
      <origin rpy="1.57079632679 0 0" xyz="0 0.02 0"/>
      <geometry>
        <cylinder length="0.04" radius="0.06"/>
      </geometry>
    </collision>
    <collision>
      <origin rpy="1.57079632679 0 0" xyz="0.057499 0.02 0"/>
      <geometry>
        <box size="0.114998 0.0675 0.04"/>
      </geometry>
    </collision>
    <inertial>
      <origin rpy="0 0 0" xyz="0.03463 0.00688 0.00098"/>
      <mass value="0.33742"/>
      <inertia ixx="0.00032748005" ixy="2.142561e-05" ixz="1.33942e-05" iyy="0.00110974122" iyz="7.601e-08" izz="0.00089388521"/>
    </inertial>
  </link>
  <!-- Leg configurations: xx (knees bent inwards), xo (knees bent backwards) -->
  <!-- joint shank foot -->
  <joint name="LF_shank_fixed_LF_FOOT" type="fixed">
    <parent link="LF_shank_fixed"/>
    <child link="LF_FOOT"/>
    <origin rpy="0 0 0" xyz="0.08795 0.01305 -0.33797"/>
  </joint>
  <!-- Foot link -->
  <link name="LF_FOOT">
    <visual>
      <origin rpy="0 0 -0.785398163397" xyz="0 0 0"/>
      <geometry>
        <mesh filename="../meshes/foot_3_1_1_mesh.dae" scale="1.0 1.0     1.0"/>
      </geometry>
    </visual>
    <!-- Adapter collision -->
    <collision>
      <origin rpy="0 0 0" xyz="0 0 0.171252"/>
      <geometry>
        <cylinder length="0.342504" radius="0.0175"/>
      </geometry>
    </collision>
    <!-- Foot collision -->
    <collision>
      <origin xyz="0 0 0.0225"/>
      <geometry>
        <sphere radius="0.03"/>
      </geometry>
    </collision>
    <inertial>
      <origin rpy="0 0 0" xyz="0.00948 -0.00948 0.1468"/>
      <mass value="0.21663"/>
      <inertia ixx="0.00317174097" ixy="2.63048e-06" ixz="6.815581e-05" iyy="0.00317174092" iyz="6.815583e-05" izz="8.319196e-05"/>
    </inertial>
  </link>
  <!-- Gazebo customization -->
  <gazebo reference="LF_FOOT">
    <kp>1000000.0</kp>
    <kd>100.0</kd>
    <mu1>0.8</mu1>
    <mu2>0.8</mu2>
  </gazebo>
  <!-- [rad] -->
  <!-- joint base HAA -->
  <joint name="base_RF_HAA" type="fixed">
    <parent link="base"/>
    <child link="RF_HAA"/>
    <origin rpy="-2.61799387799 0 0.0" xyz="0.2999 -0.104 0.0"/>
  </joint>
  <!-- [m] -->
  <!-- [A] -->
  <!-- Drive link -->
  <link name="RF_HAA">
    <visual>
      <origin rpy="0 0 0" xyz="0 0 0"/>
      <geometry>
        <mesh filename="../meshes/drive_3_0_2_mesh.dae" scale="1.0 1.0     1.0"/>
      </geometry>
    </visual>
    <inertial>
      <origin rpy="0 0 0" xyz="-0.06639 7e-05 0.00046"/>
      <mass value="1.89871"/>
      <inertia ixx="0.00201800646" ixy="6.22418e-06" ixz="1.03846e-06" iyy="0.00354961412" iyz="1.0569e-07" izz="0.00353706896"/>
    </inertial>
  </link>
  <!-- joint Drive output -->
  <joint name="RF_HAA" type="revolute">
    <parent link="RF_HAA"/>
    <child link="RF_HIP"/>
    <origin rpy="0 0 0" xyz="0 0 0"/>
    <axis xyz="1 0 0"/>
    <limit command_effort="80.0" current="32.0" effort="80.0" gear_velocity="7.5" lower="-9.42477796077" upper="9.42477796077" velocity="7.5"/>
    <dynamics damping="0.0" friction="0.0"/>
  </joint>
  <!-- Drive output link -->
  <link name="RF_HIP">
    <inertial>
      <origin rpy="0 0 0" xyz="0 0 0"/>
      <mass value="0.001"/>
      <inertia ixx="0.000001" ixy="0.0" ixz="0.0" iyy="0.000001" iyz="0.0" izz="0.000001"/>
    </inertial>
  </link>
  <!-- [kg * m^2] -->
  <!-- joint HAA hip -->
  <joint name="RF_HIP_RF_hip_fixed" type="fixed">
    <parent link="RF_HIP"/>
    <child link="RF_hip_fixed"/>
    <origin rpy="2.61799387799 0 0.0" xyz="0 0 0"/>
  </joint>
  <!-- Hip link -->
  <link name="RF_hip_fixed">
    <visual>
      <origin rpy="0 0 0.0" xyz="0 0 0"/>
      <geometry>
        <mesh filename="../meshes/hip_3_1_1_mesh_mirrored.dae" scale="1.0 1.0     1.0"/>
      </geometry>
    </visual>
    <inertial>
      <origin rpy="0 0 0" xyz="0.04524 0.0009 -0.00442"/>
      <mass value="0.61232"/>
      <inertia ixx="0.00120630718" ixy="-5.33521e-06" ixz="1.483089e-05" iyy="0.00378577813" iyz="-1.483089e-05" izz="0.00370047477"/>
    </inertial>
  </link>
  <!-- [rad] -->
  <!-- joint hip HFE -->
  <joint name="RF_hip_fixed_RF_HFE" type="fixed">
    <parent link="RF_hip_fixed"/>
    <child link="RF_HFE"/>
    <origin rpy="0 0 -1.57079632679" xyz="0.0599 -0.08381 0.0"/>
  </joint>
  <!-- [m] -->
  <!-- [A] -->
  <!-- Drive link -->
  <link name="RF_HFE">
    <visual>
      <origin rpy="0 0 0" xyz="0 0 0"/>
      <geometry>
        <mesh filename="../meshes/drive_3_0_2_mesh.dae" scale="1.0 1.0     1.0"/>
      </geometry>
    </visual>
    <collision>
      <origin rpy="0 1.57079632679 0" xyz="-0.07 0 0"/>
      <geometry>
        <cylinder length="0.14" radius="0.05"/>
      </geometry>
    </collision>
    <inertial>
      <origin rpy="0 0 0" xyz="-0.06639 7e-05 0.00046"/>
      <mass value="1.89871"/>
      <inertia ixx="0.00201800646" ixy="6.22418e-06" ixz="1.03846e-06" iyy="0.00354961412" iyz="1.0569e-07" izz="0.00353706896"/>
    </inertial>
  </link>
  <!-- joint Drive output -->
  <joint name="RF_HFE" type="revolute">
    <parent link="RF_HFE"/>
    <child link="RF_THIGH"/>
    <origin rpy="0 0 0" xyz="0 0 0"/>
    <axis xyz="-1 0 0"/>
    <limit command_effort="80.0" current="32.0" effort="80.0" gear_velocity="7.5" lower="-9.42477796077" upper="9.42477796077" velocity="7.5"/>
    <dynamics damping="0.0" friction="0.0"/>
  </joint>
  <!-- Drive output link -->
  <link name="RF_THIGH">
    <inertial>
      <origin rpy="0 0 0" xyz="0 0 0"/>
      <mass value="0.001"/>
      <inertia ixx="0.000001" ixy="0.0" ixz="0.0" iyy="0.000001" iyz="0.0" izz="0.000001"/>
    </inertial>
  </link>
  <!-- [m] -->
  <!-- measured -->
  <!-- joint HFE thigh -->
  <joint name="RF_THIGH_RF_thigh_fixed" type="fixed">
    <parent link="RF_THIGH"/>
    <child link="RF_thigh_fixed"/>
    <origin rpy="0 0 1.57079632679" xyz="0 0 0"/>
  </joint>
  <!-- Thigh link -->
  <link name="RF_thigh_fixed">
    <visual>
      <origin rpy="0 0 -3.14159265359" xyz="0 0 0"/>
      <geometry>
        <mesh filename="../meshes/thigh_3_1_1_mesh.dae" scale="1.0 1.0     1.0"/>
      </geometry>
    </visual>
    <!-- Thigh collision -->
    <collision>
      <origin rpy="1.57079632679 0 0" xyz="0 -0.04 0"/>
      <geometry>
        <cylinder length="0.08" radius="0.065"/>
      </geometry>
    </collision>
    <collision>
      <origin rpy="0 0 0" xyz="0 -0.03 -0.1413135"/>
      <geometry>
        <box size="0.075 0.06 0.282627"/>
      </geometry>
    </collision>
    <inertial>
      <origin rpy="0 0 0" xyz="-0.00935 -0.00194 -0.1424"/>
      <mass value="1.37356"/>
      <inertia ixx="0.02568264237" ixy="-0.00110418011" ixz="0.00183898863" iyy="0.02513273119" iyz="-0.00217895477" izz="0.0049947572"/>
    </inertial>
  </link>
  <!-- [rad] -->
  <!-- joint thigh KFE -->
  <joint name="RF_thigh_fixed_RF_KFE" type="fixed">
    <parent link="RF_thigh_fixed"/>
    <child link="RF_KFE"/>
    <origin rpy="0 0 -1.57079632679" xyz="0.0 -0.1003 -0.285"/>
  </joint>
  <!-- [m] -->
  <!-- [A] -->
  <!-- Drive link -->
  <link name="RF_KFE">
    <visual>
      <origin rpy="0 0 0" xyz="0 0 0"/>
      <geometry>
        <mesh filename="../meshes/drive_3_0_2_mesh.dae" scale="1.0 1.0     1.0"/>
      </geometry>
    </visual>
    <collision>
      <origin rpy="0 1.57079632679 0" xyz="-0.07 0 0"/>
      <geometry>
        <cylinder length="0.14" radius="0.05"/>
      </geometry>
    </collision>
    <inertial>
      <origin rpy="0 0 0" xyz="-0.06639 7e-05 0.00046"/>
      <mass value="1.89871"/>
      <inertia ixx="0.00201800646" ixy="6.22418e-06" ixz="1.03846e-06" iyy="0.00354961412" iyz="1.0569e-07" izz="0.00353706896"/>
    </inertial>
  </link>
  <!-- joint Drive output -->
  <joint name="RF_KFE" type="revolute">
    <parent link="RF_KFE"/>
    <child link="RF_SHANK"/>
    <origin rpy="0 0 0" xyz="0 0 0"/>
    <axis xyz="-1 0 0"/>
    <limit command_effort="80.0" current="32.0" effort="80.0" gear_velocity="7.5" lower="-9.42477796077" upper="9.42477796077" velocity="7.5"/>
    <dynamics damping="0.0" friction="0.0"/>
  </joint>
  <!-- Drive output link -->
  <link name="RF_SHANK">
    <inertial>
      <origin rpy="0 0 0" xyz="0 0 0"/>
      <mass value="0.001"/>
      <inertia ixx="0.000001" ixy="0.0" ixz="0.0" iyy="0.000001" iyz="0.0" izz="0.000001"/>
    </inertial>
  </link>
  <!-- [m] -->
  <!-- measured -->
  <!-- joint KFE shank -->
  <joint name="RF_shank_RF_shank_fixed" type="fixed">
    <parent link="RF_SHANK"/>
    <child link="RF_shank_fixed"/>
    <origin rpy="0 0 1.57079632679" xyz="0 0 0"/>
  </joint>
  <!-- Shank link -->
  <link name="RF_shank_fixed">
    <visual>
      <origin rpy="0 0 0.0" xyz="0 0 0"/>
      <geometry>
        <mesh filename="../meshes/shank_3_1_1_mesh_mirrored.dae" scale="1.0 1.0     1.0"/>
      </geometry>
    </visual>
    <!-- Shank collision -->
    <collision>
      <origin rpy="1.57079632679 0 0" xyz="0 -0.02 0"/>
      <geometry>
        <cylinder length="0.04" radius="0.06"/>
      </geometry>
    </collision>
    <collision>
      <origin rpy="1.57079632679 0 0" xyz="0.057499 -0.02 0"/>
      <geometry>
        <box size="0.114998 0.0675 0.04"/>
      </geometry>
    </collision>
    <inertial>
      <origin rpy="0 0 0" xyz="0.03463 -0.00688 0.00098"/>
      <mass value="0.33742"/>
      <inertia ixx="0.00032748005" ixy="-2.142561e-05" ixz="1.33942e-05" iyy="0.00110974122" iyz="-7.601e-08" izz="0.00089388521"/>
    </inertial>
  </link>
  <!-- Leg configurations: xx (knees bent inwards), xo (knees bent backwards) -->
  <!-- joint shank foot -->
  <joint name="RF_shank_fixed_RF_FOOT" type="fixed">
    <parent link="RF_shank_fixed"/>
    <child link="RF_FOOT"/>
    <origin rpy="0 0 0" xyz="0.08795 -0.01305 -0.33797"/>
  </joint>
  <!-- Foot link -->
  <link name="RF_FOOT">
    <visual>
      <origin rpy="0 0 0.785398163397" xyz="0 0 0"/>
      <geometry>
        <mesh filename="../meshes/foot_3_1_1_mesh.dae" scale="1.0 1.0     1.0"/>
      </geometry>
    </visual>
    <!-- Adapter collision -->
    <collision>
      <origin rpy="0 0 0" xyz="0 0 0.171252"/>
      <geometry>
        <cylinder length="0.342504" radius="0.0175"/>
      </geometry>
    </collision>
    <!-- Foot collision -->
    <collision>
      <origin xyz="0 0 0.0225"/>
      <geometry>
        <sphere radius="0.03"/>
      </geometry>
    </collision>
    <inertial>
      <origin rpy="0 0 0" xyz="0.00948 0.00948 0.1468"/>
      <mass value="0.21663"/>
      <inertia ixx="0.00317174097" ixy="-2.63048e-06" ixz="6.815581e-05" iyy="0.00317174092" iyz="-6.815583e-05" izz="8.319196e-05"/>
    </inertial>
  </link>
  <!-- Gazebo customization -->
  <gazebo reference="RF_FOOT">
    <kp>1000000.0</kp>
    <kd>100.0</kd>
    <mu1>0.8</mu1>
    <mu2>0.8</mu2>
  </gazebo>
  <!-- [rad] -->
  <!-- joint base HAA -->
  <joint name="base_LH_HAA" type="fixed">
    <parent link="base"/>
    <child link="LH_HAA"/>
    <origin rpy="-2.61799387799 0 -3.14159265359" xyz="-0.2999 0.104 0.0"/>
  </joint>
  <!-- [m] -->
  <!-- [A] -->
  <!-- Drive link -->
  <link name="LH_HAA">
    <visual>
      <origin rpy="0 0 0" xyz="0 0 0"/>
      <geometry>
        <mesh filename="../meshes/drive_3_0_2_mesh.dae" scale="1.0 1.0     1.0"/>
      </geometry>
    </visual>
    <inertial>
      <origin rpy="0 0 0" xyz="-0.06639 7e-05 0.00046"/>
      <mass value="1.89871"/>
      <inertia ixx="0.00201800646" ixy="6.22418e-06" ixz="1.03846e-06" iyy="0.00354961412" iyz="1.0569e-07" izz="0.00353706896"/>
    </inertial>
  </link>
  <!-- joint Drive output -->
  <joint name="LH_HAA" type="revolute">
    <parent link="LH_HAA"/>
    <child link="LH_HIP"/>
    <origin rpy="0 0 0" xyz="0 0 0"/>
    <axis xyz="-1 0 0"/>
    <limit command_effort="80.0" current="32.0" effort="80.0" gear_velocity="7.5" lower="-9.42477796077" upper="9.42477796077" velocity="7.5"/>
    <dynamics damping="0.0" friction="0.0"/>
  </joint>
  <!-- Drive output link -->
  <link name="LH_HIP">
    <inertial>
      <origin rpy="0 0 0" xyz="0 0 0"/>
      <mass value="0.001"/>
      <inertia ixx="0.000001" ixy="0.0" ixz="0.0" iyy="0.000001" iyz="0.0" izz="0.000001"/>
    </inertial>
  </link>
  <!-- [kg * m^2] -->
  <!-- joint HAA hip -->
  <joint name="LH_HIP_LH_hip_fixed" type="fixed">
    <parent link="LH_HIP"/>
    <child link="LH_hip_fixed"/>
    <origin rpy="-2.61799387799 0 -3.14159265359" xyz="0 0 0"/>
  </joint>
  <!-- Hip link -->
  <link name="LH_hip_fixed">
    <visual>
      <origin rpy="0 0 -3.14159265359" xyz="0 0 0"/>
      <geometry>
        <mesh filename="../meshes/hip_3_1_1_mesh_mirrored.dae" scale="1.0 1.0     1.0"/>
      </geometry>
    </visual>
    <inertial>
      <origin rpy="0 0 0" xyz="-0.04524 -0.0009 -0.00442"/>
      <mass value="0.61232"/>
      <inertia ixx="0.00120630718" ixy="-5.33521e-06" ixz="-1.483089e-05" iyy="0.00378577813" iyz="1.483089e-05" izz="0.00370047477"/>
    </inertial>
  </link>
  <!-- [rad] -->
  <!-- joint hip HFE -->
  <joint name="LH_hip_fixed_LH_HFE" type="fixed">
    <parent link="LH_hip_fixed"/>
    <child link="LH_HFE"/>
    <origin rpy="0 0 1.57079632679" xyz="-0.0599 0.08381 0.0"/>
  </joint>
  <!-- [m] -->
  <!-- [A] -->
  <!-- Drive link -->
  <link name="LH_HFE">
    <visual>
      <origin rpy="0 0 0" xyz="0 0 0"/>
      <geometry>
        <mesh filename="../meshes/drive_3_0_2_mesh.dae" scale="1.0 1.0     1.0"/>
      </geometry>
    </visual>
    <collision>
      <origin rpy="0 1.57079632679 0" xyz="-0.07 0 0"/>
      <geometry>
        <cylinder length="0.14" radius="0.05"/>
      </geometry>
    </collision>
    <inertial>
      <origin rpy="0 0 0" xyz="-0.06639 7e-05 0.00046"/>
      <mass value="1.89871"/>
      <inertia ixx="0.00201800646" ixy="6.22418e-06" ixz="1.03846e-06" iyy="0.00354961412" iyz="1.0569e-07" izz="0.00353706896"/>
    </inertial>
  </link>
  <!-- joint Drive output -->
  <joint name="LH_HFE" type="revolute">
    <parent link="LH_HFE"/>
    <child link="LH_THIGH"/>
    <origin rpy="0 0 0" xyz="0 0 0"/>
    <axis xyz="1 0 0"/>
    <limit command_effort="80.0" current="32.0" effort="80.0" gear_velocity="7.5" lower="-9.42477796077" upper="9.42477796077" velocity="7.5"/>
    <dynamics damping="0.0" friction="0.0"/>
  </joint>
  <!-- Drive output link -->
  <link name="LH_THIGH">
    <inertial>
      <origin rpy="0 0 0" xyz="0 0 0"/>
      <mass value="0.001"/>
      <inertia ixx="0.000001" ixy="0.0" ixz="0.0" iyy="0.000001" iyz="0.0" izz="0.000001"/>
    </inertial>
  </link>
  <!-- [m] -->
  <!-- measured -->
  <!-- joint HFE thigh -->
  <joint name="LH_THIGH_LH_thigh_fixed" type="fixed">
    <parent link="LH_THIGH"/>
    <child link="LH_thigh_fixed"/>
    <origin rpy="0 0 -1.57079632679" xyz="0 0 0"/>
  </joint>
  <!-- Thigh link -->
  <link name="LH_thigh_fixed">
    <visual>
      <origin rpy="0 0 0.0" xyz="0 0 0"/>
      <geometry>
        <mesh filename="../meshes/thigh_3_1_1_mesh.dae" scale="1.0 1.0     1.0"/>
      </geometry>
    </visual>
    <!-- Thigh collision -->
    <collision>
      <origin rpy="1.57079632679 0 0" xyz="0 0.04 0"/>
      <geometry>
        <cylinder length="0.08" radius="0.065"/>
      </geometry>
    </collision>
    <collision>
      <origin rpy="0 0 0" xyz="0 0.03 -0.1413135"/>
      <geometry>
        <box size="0.075 0.06 0.282627"/>
      </geometry>
    </collision>
    <inertial>
      <origin rpy="0 0 0" xyz="0.00935 0.00194 -0.1424"/>
      <mass value="1.37356"/>
      <inertia ixx="0.02568264237" ixy="-0.00110418011" ixz="-0.00183898863" iyy="0.02513273119" iyz="0.00217895477" izz="0.0049947572"/>
    </inertial>
  </link>
  <!-- [rad] -->
  <!-- joint thigh KFE -->
  <joint name="LH_thigh_fixed_LH_KFE" type="fixed">
    <parent link="LH_thigh_fixed"/>
    <child link="LH_KFE"/>
    <origin rpy="0 0 1.57079632679" xyz="-0.0 0.1003 -0.285"/>
  </joint>
  <!-- [m] -->
  <!-- [A] -->
  <!-- Drive link -->
  <link name="LH_KFE">
    <visual>
      <origin rpy="0 0 0" xyz="0 0 0"/>
      <geometry>
        <mesh filename="../meshes/drive_3_0_2_mesh.dae" scale="1.0 1.0     1.0"/>
      </geometry>
    </visual>
    <collision>
      <origin rpy="0 1.57079632679 0" xyz="-0.07 0 0"/>
      <geometry>
        <cylinder length="0.14" radius="0.05"/>
      </geometry>
    </collision>
    <inertial>
      <origin rpy="0 0 0" xyz="-0.06639 7e-05 0.00046"/>
      <mass value="1.89871"/>
      <inertia ixx="0.00201800646" ixy="6.22418e-06" ixz="1.03846e-06" iyy="0.00354961412" iyz="1.0569e-07" izz="0.00353706896"/>
    </inertial>
  </link>
  <!-- joint Drive output -->
  <joint name="LH_KFE" type="revolute">
    <parent link="LH_KFE"/>
    <child link="LH_SHANK"/>
    <origin rpy="0 0 0" xyz="0 0 0"/>
    <axis xyz="1 0 0"/>
    <limit command_effort="80.0" current="32.0" effort="80.0" gear_velocity="7.5" lower="-9.42477796077" upper="9.42477796077" velocity="7.5"/>
    <dynamics damping="0.0" friction="0.0"/>
  </joint>
  <!-- Drive output link -->
  <link name="LH_SHANK">
    <inertial>
      <origin rpy="0 0 0" xyz="0 0 0"/>
      <mass value="0.001"/>
      <inertia ixx="0.000001" ixy="0.0" ixz="0.0" iyy="0.000001" iyz="0.0" izz="0.000001"/>
    </inertial>
  </link>
  <!-- [m] -->
  <!-- measured -->
  <!-- joint KFE shank -->
  <joint name="LH_shank_LH_shank_fixed" type="fixed">
    <parent link="LH_SHANK"/>
    <child link="LH_shank_fixed"/>
    <origin rpy="0 0 -1.57079632679" xyz="0 0 0"/>
  </joint>
  <!-- Shank link -->
  <link name="LH_shank_fixed">
    <visual>
      <origin rpy="0 0 -3.14159265359" xyz="0 0 0"/>
      <geometry>
        <mesh filename="../meshes/shank_3_1_1_mesh_mirrored.dae" scale="1.0 1.0     1.0"/>
      </geometry>
    </visual>
    <!-- Shank collision -->
    <collision>
      <origin rpy="1.57079632679 0 0" xyz="0 0.02 0"/>
      <geometry>
        <cylinder length="0.04" radius="0.06"/>
      </geometry>
    </collision>
    <collision>
      <origin rpy="1.57079632679 0 0" xyz="-0.057499 0.02 0"/>
      <geometry>
        <box size="0.114998 0.0675 0.04"/>
      </geometry>
    </collision>
    <inertial>
      <origin rpy="0 0 0" xyz="-0.03463 0.00688 0.00098"/>
      <mass value="0.33742"/>
      <inertia ixx="0.00032748005" ixy="-2.142561e-05" ixz="-1.33942e-05" iyy="0.00110974122" iyz="7.601e-08" izz="0.00089388521"/>
    </inertial>
  </link>
  <!-- Leg configurations: xx (knees bent inwards), xo (knees bent backwards) -->
  <!-- joint shank foot -->
  <joint name="LH_shank_fixed_LH_FOOT" type="fixed">
    <parent link="LH_shank_fixed"/>
    <child link="LH_FOOT"/>
    <origin rpy="0 0 0" xyz="-0.08795 0.01305 -0.33797"/>
  </joint>
  <!-- Foot link -->
  <link name="LH_FOOT">
    <visual>
      <origin rpy="0 0 -2.35619449019" xyz="0 0 0"/>
      <geometry>
        <mesh filename="../meshes/foot_3_1_1_mesh.dae" scale="1.0 1.0     1.0"/>
      </geometry>
    </visual>
    <!-- Adapter collision -->
    <collision>
      <origin rpy="0 0 0" xyz="0 0 0.171252"/>
      <geometry>
        <cylinder length="0.342504" radius="0.0175"/>
      </geometry>
    </collision>
    <!-- Foot collision -->
    <collision>
      <origin xyz="0 0 0.0225"/>
      <geometry>
        <sphere radius="0.03"/>
      </geometry>
    </collision>
    <inertial>
      <origin rpy="0 0 0" xyz="-0.00948 -0.00948 0.1468"/>
      <mass value="0.21663"/>
      <inertia ixx="0.00317174097" ixy="-2.63048e-06" ixz="-6.815581e-05" iyy="0.00317174092" iyz="6.815583e-05" izz="8.319196e-05"/>
    </inertial>
  </link>
  <!-- Gazebo customization -->
  <gazebo reference="LH_FOOT">
    <kp>1000000.0</kp>
    <kd>100.0</kd>
    <mu1>0.8</mu1>
    <mu2>0.8</mu2>
  </gazebo>
  <!-- [rad] -->
  <!-- joint base HAA -->
  <joint name="base_RH_HAA" type="fixed">
    <parent link="base"/>
    <child link="RH_HAA"/>
    <origin rpy="2.61799387799 0 -3.14159265359" xyz="-0.2999 -0.104 0.0"/>
  </joint>
  <!-- [m] -->
  <!-- [A] -->
  <!-- Drive link -->
  <link name="RH_HAA">
    <visual>
      <origin rpy="0 0 0" xyz="0 0 0"/>
      <geometry>
        <mesh filename="../meshes/drive_3_0_2_mesh.dae" scale="1.0 1.0     1.0"/>
      </geometry>
    </visual>
    <inertial>
      <origin rpy="0 0 0" xyz="-0.06639 7e-05 0.00046"/>
      <mass value="1.89871"/>
      <inertia ixx="0.00201800646" ixy="6.22418e-06" ixz="1.03846e-06" iyy="0.00354961412" iyz="1.0569e-07" izz="0.00353706896"/>
    </inertial>
  </link>
  <!-- joint Drive output -->
  <joint name="RH_HAA" type="revolute">
    <parent link="RH_HAA"/>
    <child link="RH_HIP"/>
    <origin rpy="0 0 0" xyz="0 0 0"/>
    <axis xyz="-1 0 0"/>
    <limit command_effort="80.0" current="32.0" effort="80.0" gear_velocity="7.5" lower="-9.42477796077" upper="9.42477796077" velocity="7.5"/>
    <dynamics damping="0.0" friction="0.0"/>
  </joint>
  <!-- Drive output link -->
  <link name="RH_HIP">
    <inertial>
      <origin rpy="0 0 0" xyz="0 0 0"/>
      <mass value="0.001"/>
      <inertia ixx="0.000001" ixy="0.0" ixz="0.0" iyy="0.000001" iyz="0.0" izz="0.000001"/>
    </inertial>
  </link>
  <!-- [kg * m^2] -->
  <!-- joint HAA hip -->
  <joint name="RH_HIP_RH_hip_fixed" type="fixed">
    <parent link="RH_HIP"/>
    <child link="RH_hip_fixed"/>
    <origin rpy="2.61799387799 0 -3.14159265359" xyz="0 0 0"/>
  </joint>
  <!-- Hip link -->
  <link name="RH_hip_fixed">
    <visual>
      <origin rpy="0 0 -3.14159265359" xyz="0 0 0"/>
      <geometry>
        <mesh filename="../meshes/hip_3_1_1_mesh.dae" scale="1.0 1.0     1.0"/>
      </geometry>
    </visual>
    <inertial>
      <origin rpy="0 0 0" xyz="-0.04524 0.0009 -0.00442"/>
      <mass value="0.61232"/>
      <inertia ixx="0.00120630718" ixy="5.33521e-06" ixz="-1.483089e-05" iyy="0.00378577813" iyz="-1.483089e-05" izz="0.00370047477"/>
    </inertial>
  </link>
  <!-- [rad] -->
  <!-- joint hip HFE -->
  <joint name="RH_hip_fixed_RH_HFE" type="fixed">
    <parent link="RH_hip_fixed"/>
    <child link="RH_HFE"/>
    <origin rpy="0 0 -1.57079632679" xyz="-0.0599 -0.08381 0.0"/>
  </joint>
  <!-- [m] -->
  <!-- [A] -->
  <!-- Drive link -->
  <link name="RH_HFE">
    <visual>
      <origin rpy="0 0 0" xyz="0 0 0"/>
      <geometry>
        <mesh filename="../meshes/drive_3_0_2_mesh.dae" scale="1.0 1.0     1.0"/>
      </geometry>
    </visual>
    <collision>
      <origin rpy="0 1.57079632679 0" xyz="-0.07 0 0"/>
      <geometry>
        <cylinder length="0.14" radius="0.05"/>
      </geometry>
    </collision>
    <inertial>
      <origin rpy="0 0 0" xyz="-0.06639 7e-05 0.00046"/>
      <mass value="1.89871"/>
      <inertia ixx="0.00201800646" ixy="6.22418e-06" ixz="1.03846e-06" iyy="0.00354961412" iyz="1.0569e-07" izz="0.00353706896"/>
    </inertial>
  </link>
  <!-- joint Drive output -->
  <joint name="RH_HFE" type="revolute">
    <parent link="RH_HFE"/>
    <child link="RH_THIGH"/>
    <origin rpy="0 0 0" xyz="0 0 0"/>
    <axis xyz="-1 0 0"/>
    <limit command_effort="80.0" current="32.0" effort="80.0" gear_velocity="7.5" lower="-9.42477796077" upper="9.42477796077" velocity="7.5"/>
    <dynamics damping="0.0" friction="0.0"/>
  </joint>
  <!-- Drive output link -->
  <link name="RH_THIGH">
    <inertial>
      <origin rpy="0 0 0" xyz="0 0 0"/>
      <mass value="0.001"/>
      <inertia ixx="0.000001" ixy="0.0" ixz="0.0" iyy="0.000001" iyz="0.0" izz="0.000001"/>
    </inertial>
  </link>
  <!-- [m] -->
  <!-- measured -->
  <!-- joint HFE thigh -->
  <joint name="RH_THIGH_RH_thigh_fixed" type="fixed">
    <parent link="RH_THIGH"/>
    <child link="RH_thigh_fixed"/>
    <origin rpy="0 0 1.57079632679" xyz="0 0 0"/>
  </joint>
  <!-- Thigh link -->
  <link name="RH_thigh_fixed">
    <visual>
      <origin rpy="0 0 -3.14159265359" xyz="0 0 0"/>
      <geometry>
        <mesh filename="../meshes/thigh_3_1_1_mesh.dae" scale="1.0 1.0     1.0"/>
      </geometry>
    </visual>
    <!-- Thigh collision -->
    <collision>
      <origin rpy="1.57079632679 0 0" xyz="0 -0.04 0"/>
      <geometry>
        <cylinder length="0.08" radius="0.065"/>
      </geometry>
    </collision>
    <collision>
      <origin rpy="0 0 0" xyz="0 -0.03 -0.1413135"/>
      <geometry>
        <box size="0.075 0.06 0.282627"/>
      </geometry>
    </collision>
    <inertial>
      <origin rpy="0 0 0" xyz="0.00935 -0.00194 -0.1424"/>
      <mass value="1.37356"/>
      <inertia ixx="0.02568264237" ixy="0.00110418011" ixz="-0.00183898863" iyy="0.02513273119" iyz="-0.00217895477" izz="0.0049947572"/>
    </inertial>
  </link>
  <!-- [rad] -->
  <!-- joint thigh KFE -->
  <joint name="RH_thigh_fixed_RH_KFE" type="fixed">
    <parent link="RH_thigh_fixed"/>
    <child link="RH_KFE"/>
    <origin rpy="0 0 -1.57079632679" xyz="-0.0 -0.1003 -0.285"/>
  </joint>
  <!-- [m] -->
  <!-- [A] -->
  <!-- Drive link -->
  <link name="RH_KFE">
    <visual>
      <origin rpy="0 0 0" xyz="0 0 0"/>
      <geometry>
        <mesh filename="../meshes/drive_3_0_2_mesh.dae" scale="1.0 1.0     1.0"/>
      </geometry>
    </visual>
    <collision>
      <origin rpy="0 1.57079632679 0" xyz="-0.07 0 0"/>
      <geometry>
        <cylinder length="0.14" radius="0.05"/>
      </geometry>
    </collision>
    <inertial>
      <origin rpy="0 0 0" xyz="-0.06639 7e-05 0.00046"/>
      <mass value="1.89871"/>
      <inertia ixx="0.00201800646" ixy="6.22418e-06" ixz="1.03846e-06" iyy="0.00354961412" iyz="1.0569e-07" izz="0.00353706896"/>
    </inertial>
  </link>
  <!-- joint Drive output -->
  <joint name="RH_KFE" type="revolute">
    <parent link="RH_KFE"/>
    <child link="RH_SHANK"/>
    <origin rpy="0 0 0" xyz="0 0 0"/>
    <axis xyz="-1 0 0"/>
    <limit command_effort="80.0" current="32.0" effort="80.0" gear_velocity="7.5" lower="-9.42477796077" upper="9.42477796077" velocity="7.5"/>
    <dynamics damping="0.0" friction="0.0"/>
  </joint>
  <!-- Drive output link -->
  <link name="RH_SHANK">
    <inertial>
      <origin rpy="0 0 0" xyz="0 0 0"/>
      <mass value="0.001"/>
      <inertia ixx="0.000001" ixy="0.0" ixz="0.0" iyy="0.000001" iyz="0.0" izz="0.000001"/>
    </inertial>
  </link>
  <!-- [m] -->
  <!-- measured -->
  <!-- joint KFE shank -->
  <joint name="RH_shank_RH_shank_fixed" type="fixed">
    <parent link="RH_SHANK"/>
    <child link="RH_shank_fixed"/>
    <origin rpy="0 0 1.57079632679" xyz="0 0 0"/>
  </joint>
  <!-- Shank link -->
  <link name="RH_shank_fixed">
    <visual>
      <origin rpy="0 0 -3.14159265359" xyz="0 0 0"/>
      <geometry>
        <mesh filename="../meshes/shank_3_1_1_mesh.dae" scale="1.0 1.0     1.0"/>
      </geometry>
    </visual>
    <!-- Shank collision -->
    <collision>
      <origin rpy="1.57079632679 0 0" xyz="0 -0.02 0"/>
      <geometry>
        <cylinder length="0.04" radius="0.06"/>
      </geometry>
    </collision>
    <collision>
      <origin rpy="1.57079632679 0 0" xyz="-0.057499 -0.02 0"/>
      <geometry>
        <box size="0.114998 0.0675 0.04"/>
      </geometry>
    </collision>
    <inertial>
      <origin rpy="0 0 0" xyz="-0.03463 -0.00688 0.00098"/>
      <mass value="0.33742"/>
      <inertia ixx="0.00032748005" ixy="2.142561e-05" ixz="-1.33942e-05" iyy="0.00110974122" iyz="-7.601e-08" izz="0.00089388521"/>
    </inertial>
  </link>
  <!-- Leg configurations: xx (knees bent inwards), xo (knees bent backwards) -->
  <!-- joint shank foot -->
  <joint name="RH_shank_fixed_RH_FOOT" type="fixed">
    <parent link="RH_shank_fixed"/>
    <child link="RH_FOOT"/>
    <origin rpy="0 0 0" xyz="-0.08795 -0.01305 -0.33797"/>
  </joint>
  <!-- Foot link -->
  <link name="RH_FOOT">
    <visual>
      <origin rpy="0 0 -3.92699081699" xyz="0 0 0"/>
      <geometry>
        <mesh filename="../meshes/foot_3_1_1_mesh.dae" scale="1.0 1.0     1.0"/>
      </geometry>
    </visual>
    <!-- Adapter collision -->
    <collision>
      <origin rpy="0 0 0" xyz="0 0 0.171252"/>
      <geometry>
        <cylinder length="0.342504" radius="0.0175"/>
      </geometry>
    </collision>
    <!-- Foot collision -->
    <collision>
      <origin xyz="0 0 0.0225"/>
      <geometry>
        <sphere radius="0.03"/>
      </geometry>
    </collision>
    <inertial>
      <origin rpy="0 0 0" xyz="-0.00948 0.00948 0.1468"/>
      <mass value="0.21663"/>
      <inertia ixx="0.00317174097" ixy="2.63048e-06" ixz="-6.815581e-05" iyy="0.00317174092" iyz="-6.815583e-05" izz="8.319196e-05"/>
    </inertial>
  </link>
  <!-- Gazebo customization -->
  <gazebo reference="RH_FOOT">
    <kp>1000000.0</kp>
    <kd>100.0</kd>
    <mu1>0.8</mu1>
    <mu2>0.8</mu2>
  </gazebo>
  <!-- [kg * m^2] -->
  <!-- Fixed joint base hatch -->
  <joint name="base_hatch" type="fixed">
    <parent link="base"/>
    <child link="hatch"/>
    <origin rpy="0 0 0" xyz="0.0 0.0 0.0"/>
  </joint>
  <!-- Hatch link -->
  <link name="hatch">
    <visual>
      <origin rpy="0 0 0" xyz="0.116 0 0.073"/>
      <geometry>
        <mesh filename="../meshes/hatch_3_1_1_mesh.dae" scale="1.0 1.0 1.0"/>
      </geometry>
    </visual>
    <inertial>
      <origin rpy="0 0 0" xyz="0.116 0.0 0.0758"/>
      <mass value="0.142"/>
      <inertia ixx="0.001" ixy="0.001" ixz="0.001" iyy="0.001" iyz="0.001" izz="0.001"/>
    </inertial>
  </link>
  <!--TODO: What other croc-specifics need to be loaded here?-->
</robot>
